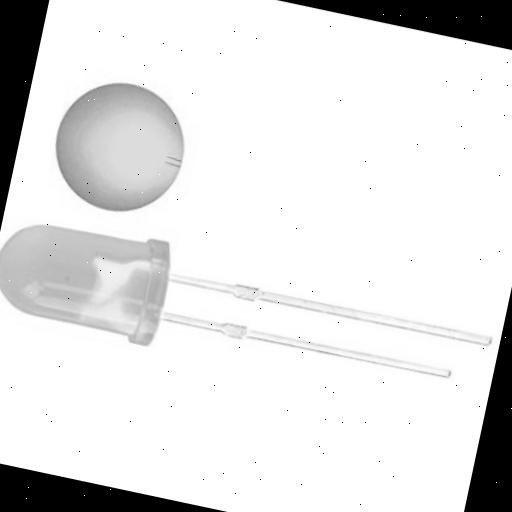LED: (0, 191, 487, 437)
